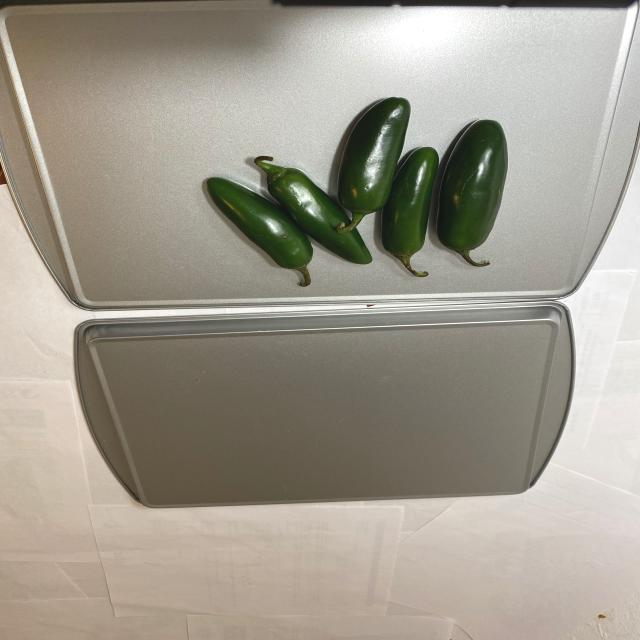chilli: (193, 92, 533, 286)
